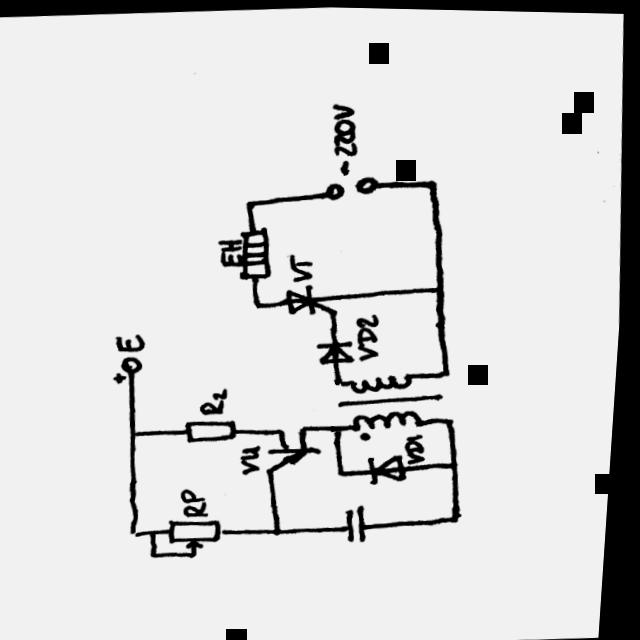capacitor: (351, 502, 376, 543)
diode: (373, 451, 415, 484), (319, 338, 359, 364)
junction: (135, 525, 151, 539), (133, 426, 149, 440), (153, 525, 169, 539), (453, 510, 469, 524), (446, 411, 462, 425), (451, 456, 467, 470), (341, 464, 357, 478), (336, 420, 352, 434), (276, 523, 292, 536), (302, 421, 317, 433), (279, 424, 294, 436), (256, 298, 271, 310), (246, 196, 261, 208), (424, 176, 439, 188), (435, 282, 450, 294), (442, 361, 457, 373), (336, 373, 351, 385), (156, 549, 171, 559), (193, 549, 206, 558)
resistor: (175, 516, 230, 549), (190, 416, 245, 442)
terminal: (358, 172, 386, 193), (124, 352, 148, 374), (324, 179, 349, 199)
text: (332, 99, 360, 174), (358, 311, 386, 360), (186, 485, 216, 517), (204, 385, 234, 414), (292, 251, 321, 281), (246, 441, 270, 474), (221, 237, 246, 266), (410, 431, 433, 462), (120, 331, 151, 351)
thyristor: (289, 281, 342, 314)
transformer: (353, 367, 430, 440)
transistor: (270, 440, 330, 476)
